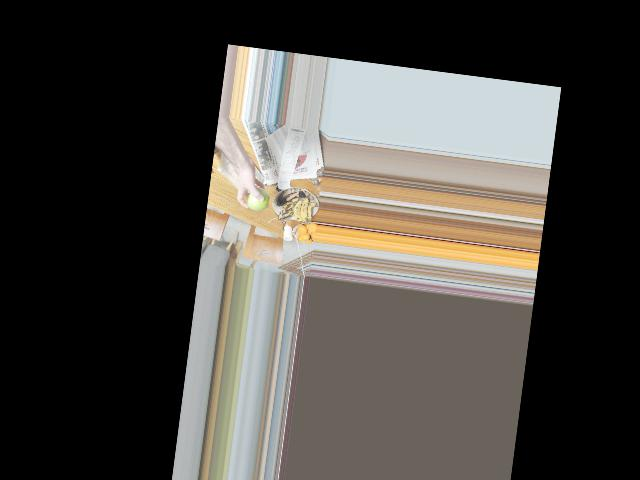apple: (246, 187, 270, 211)
